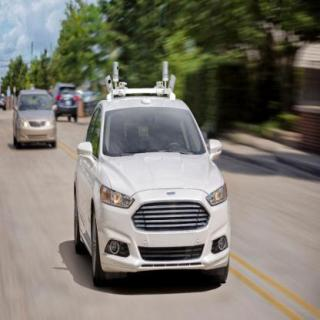Normal_vehicle: (73, 62, 230, 285)
